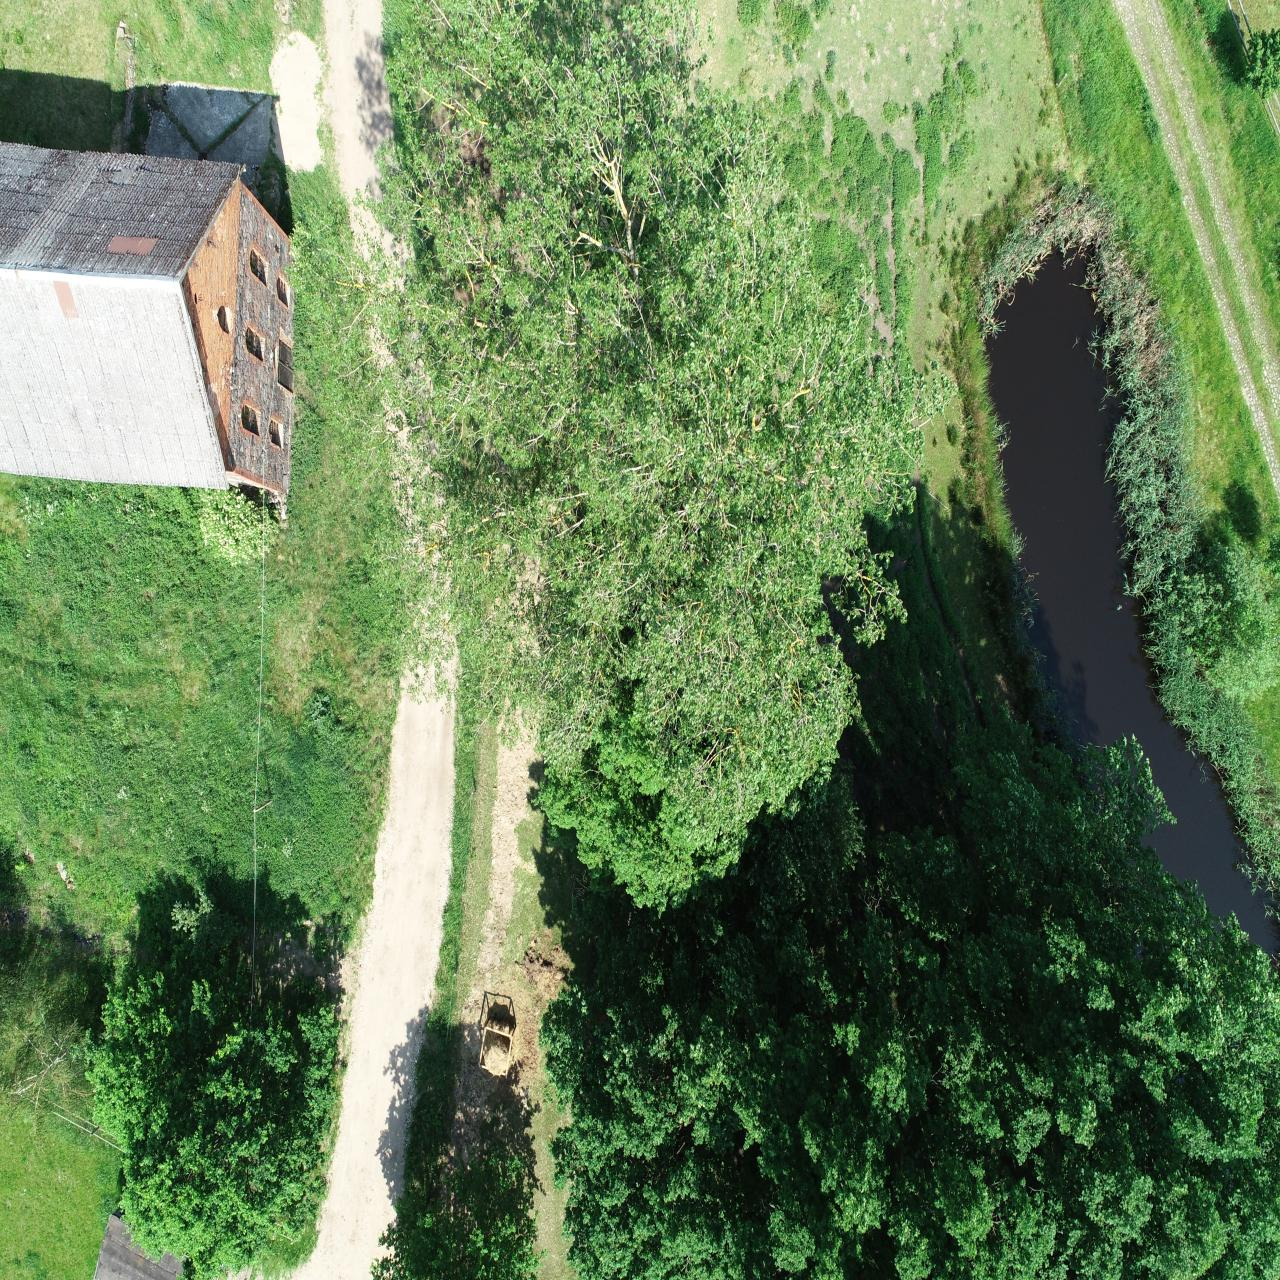cow: (700, 418, 723, 479), (686, 237, 709, 292), (819, 491, 842, 547), (1136, 790, 1163, 836), (776, 1184, 809, 1219), (631, 464, 651, 522), (597, 979, 628, 1014), (1061, 477, 1082, 530), (842, 874, 865, 920), (850, 130, 869, 185), (592, 903, 621, 938), (592, 74, 610, 131), (797, 170, 813, 231), (805, 30, 824, 82), (833, 375, 850, 434), (764, 298, 783, 348), (745, 524, 762, 576), (730, 645, 745, 696), (674, 1251, 699, 1280)
